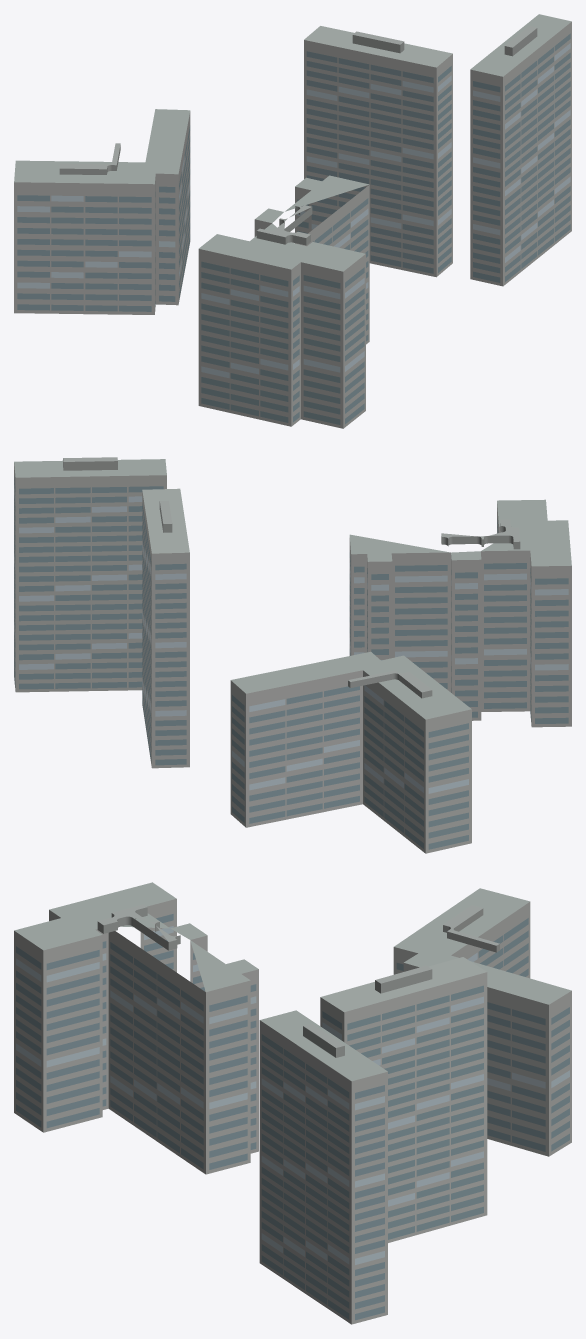
The model's file is apt-a13885301.glb.
The picture shows the model from 3 angles, top to bottom: view 1: azimuth 30°, elevation 25°; view 2: azimuth 150°, elevation 25°; view 3: azimuth 270°, elevation 25°; orthographic projection. The views are drawn at different scales.
Visible parts, largest first — view 1: apt-a13885301; view 2: apt-a13885301; view 3: apt-a13885301.
Boxes of the visible parts, x1,y1,x2,y2 form: apt-a13885301: (14, 14, 571, 428); apt-a13885301: (14, 457, 571, 853); apt-a13885301: (14, 882, 571, 1324).
Size of the model in its own units: 147 by 61 by 122.
